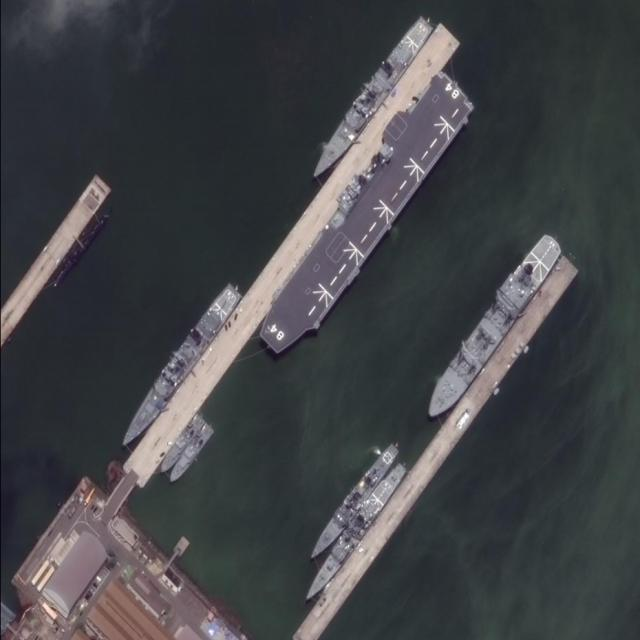Auxiliary Ships: (418, 230, 566, 425)
Destroyer: (255, 73, 478, 362), (111, 279, 246, 453), (304, 13, 436, 184), (299, 461, 409, 606), (303, 439, 401, 567)
Dock: (92, 30, 471, 504)
Other Warship: (156, 414, 206, 478), (167, 423, 216, 486)
Submarine: (45, 208, 113, 290)
